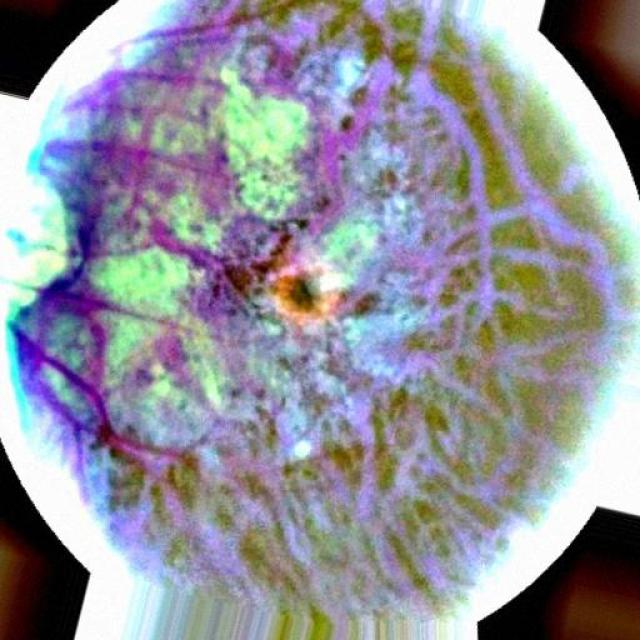Macula: (268, 252, 342, 325)
Nerves: (10, 160, 150, 471), (44, 22, 231, 186), (140, 215, 246, 318)
